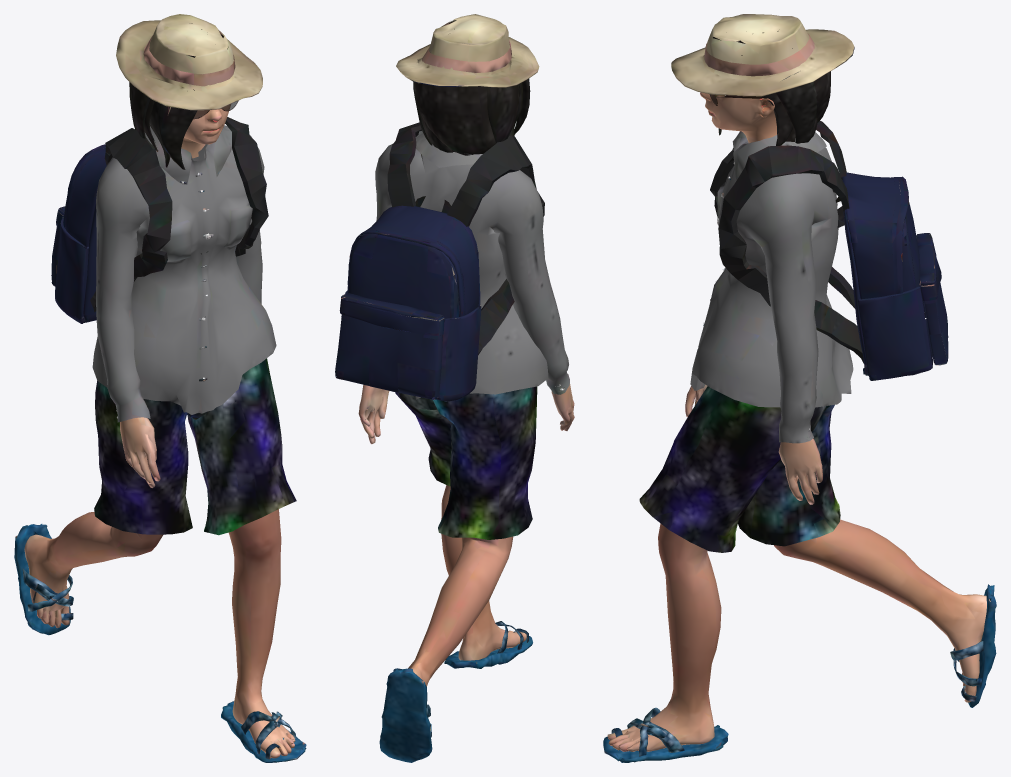
The picture shows the model from 3 angles, left to right: view 1: azimuth 30°, elevation 25°; view 2: azimuth 150°, elevation 25°; view 3: azimuth 270°, elevation 25°; orthographic projection. The views are drawn at different scales.
Parts seen in each view (by area): view 1: p02037; view 2: p02037; view 3: p02037.
Part boxes in pixels (left/top/right/bottom): p02037: left=14, top=14, right=306, bottom=762; p02037: left=335, top=14, right=574, bottom=762; p02037: left=603, top=14, right=996, bottom=762.
Bounding box in the file's own units: 0.4187 × 1.53 × 0.7596.
Materials: 1 (1 with a texture image).
